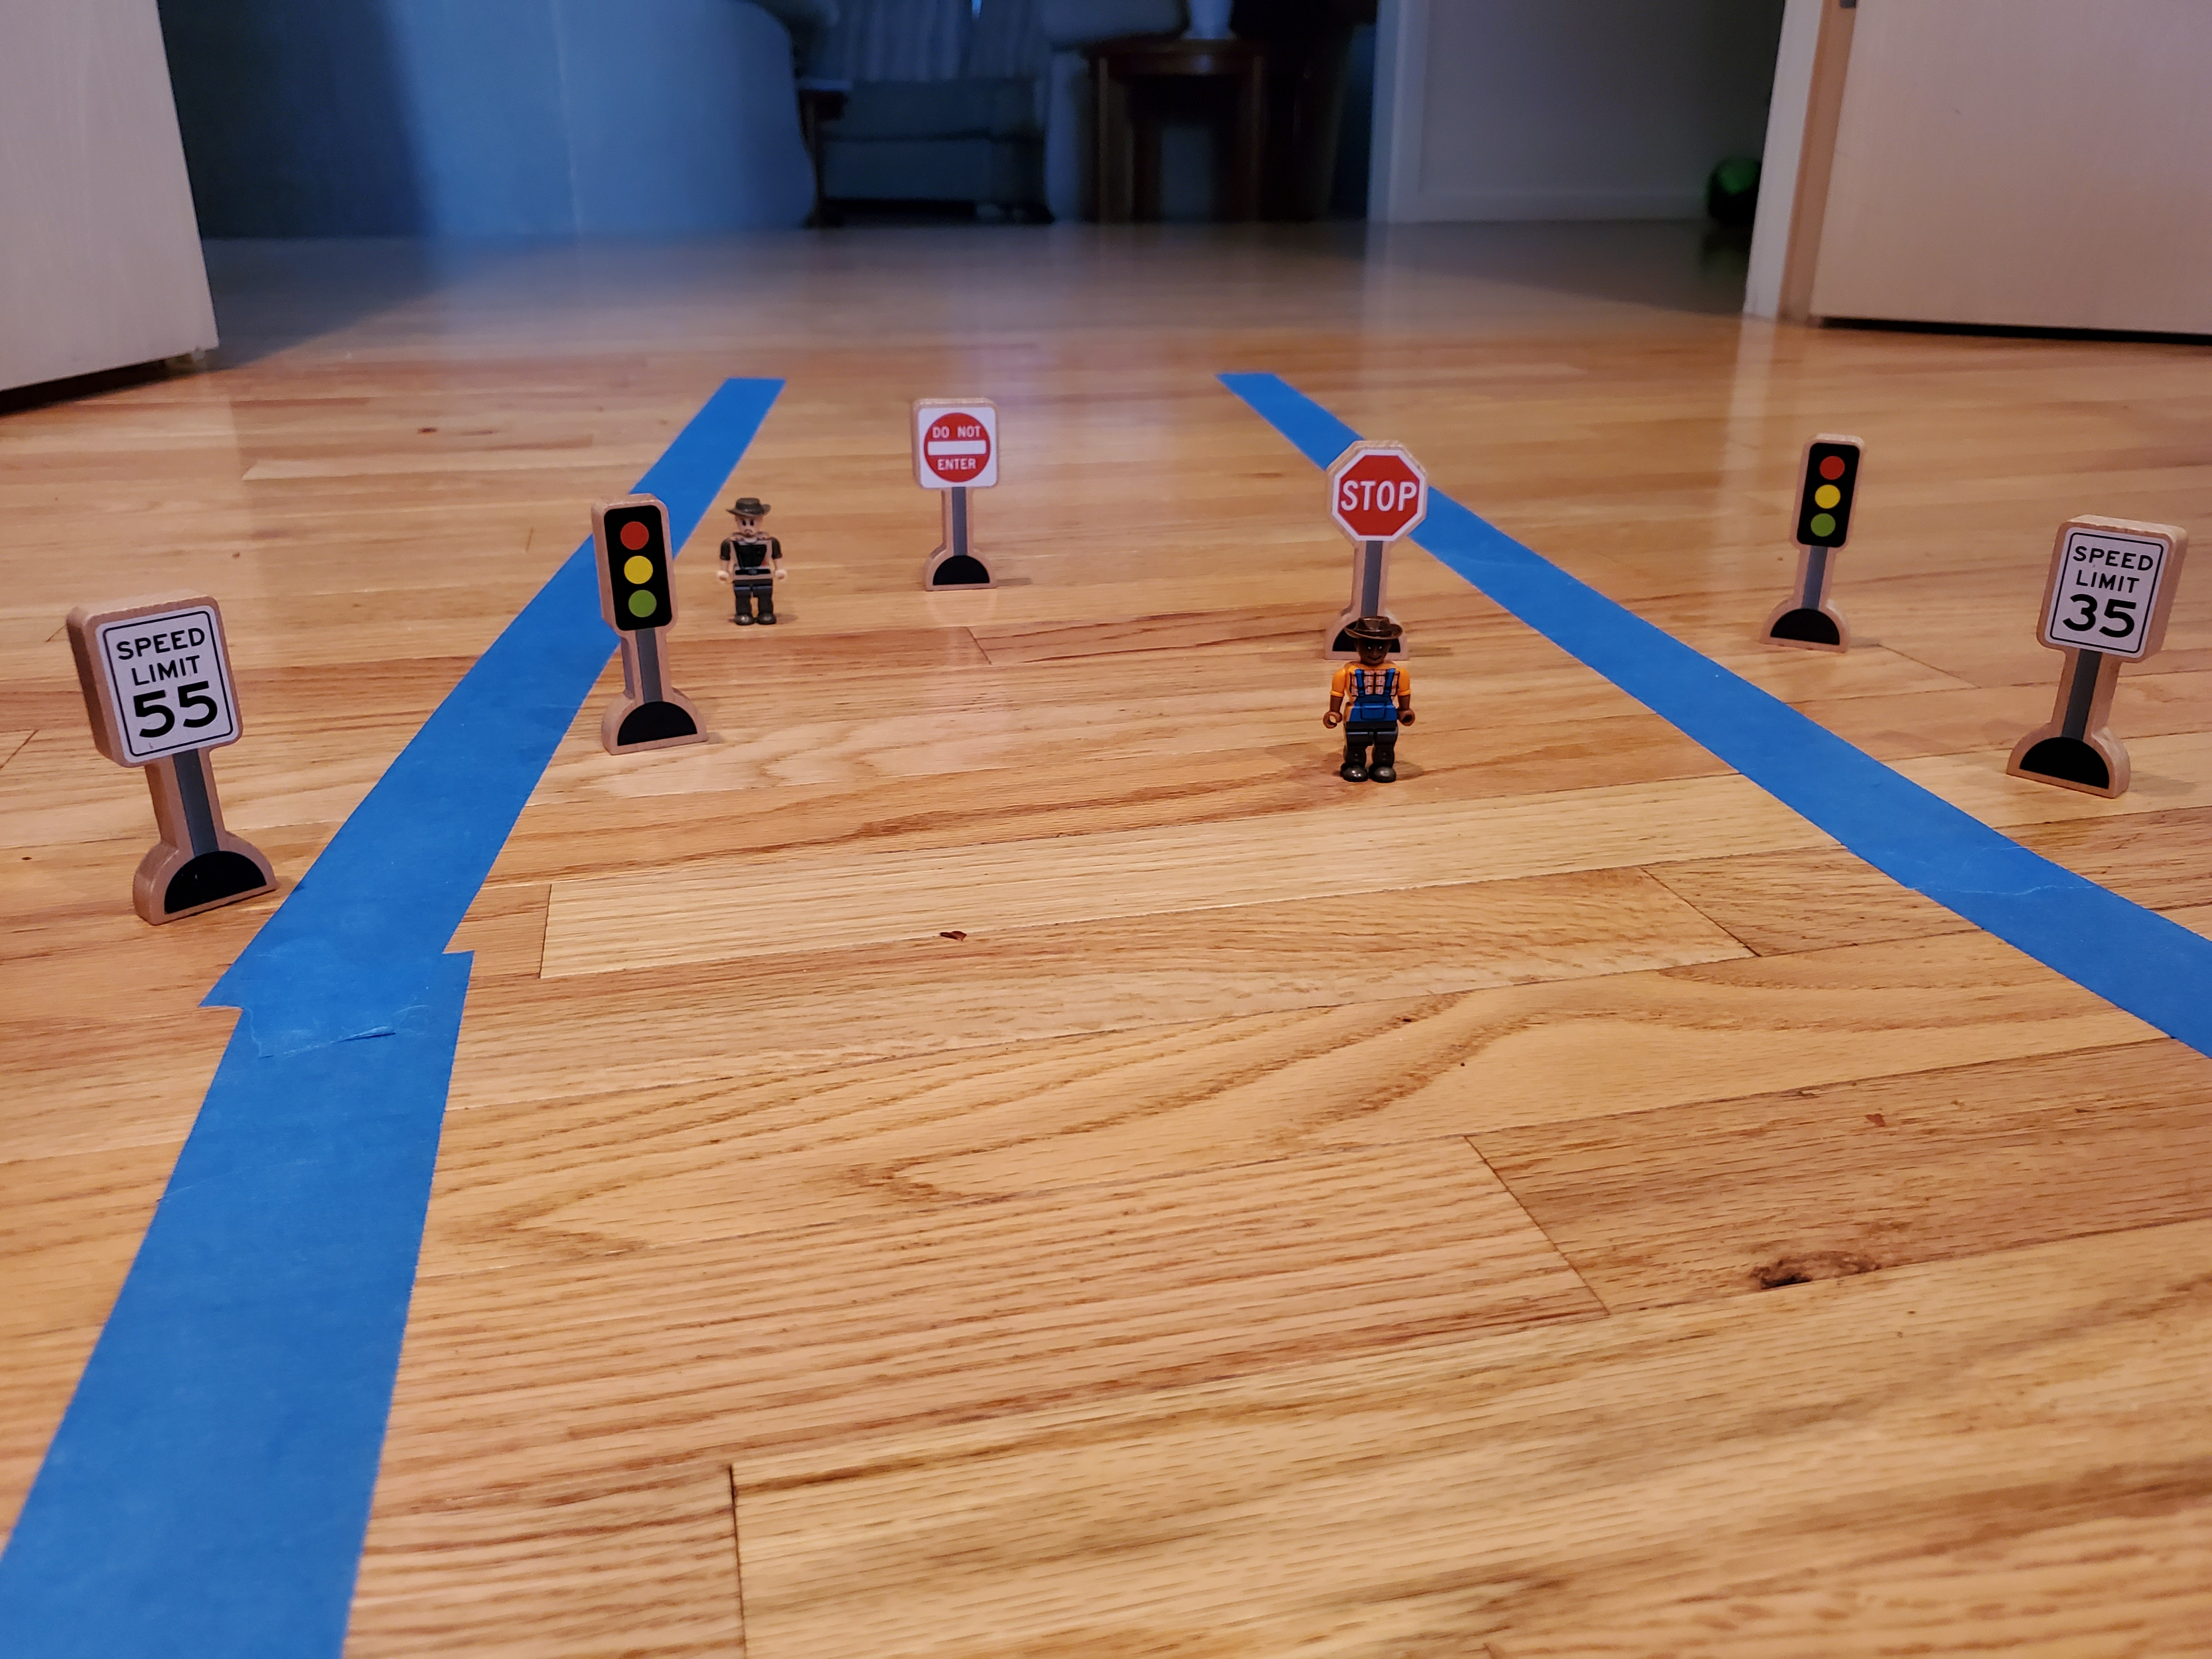Do Not Enter: (902, 390, 1010, 509)
Red Traffic Light: (580, 483, 687, 642), (1781, 416, 1874, 576)
Speed Limit 35: (2025, 506, 2190, 687)
Speed Limit 55: (61, 591, 262, 771)
Stop Sign: (1318, 435, 1440, 558)
person: (1318, 617, 1428, 791), (710, 497, 795, 631)
